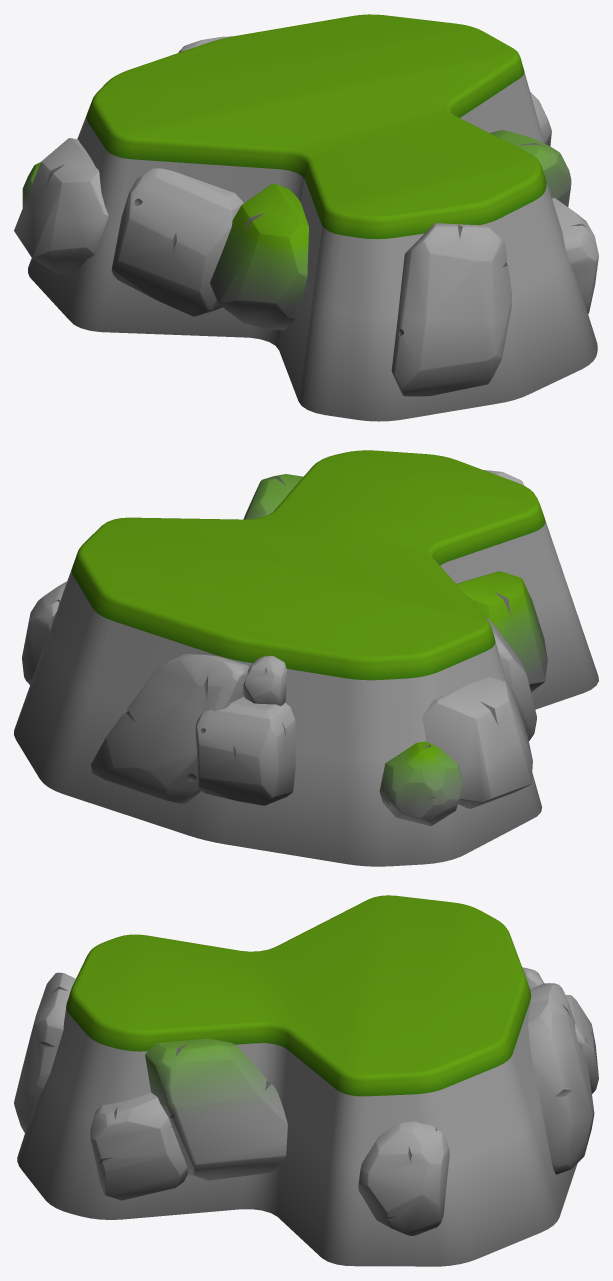
The model's file is RockMountain05.fbx.
3 renders of one model, top to bottom at view 1: azimuth 30°, elevation 25°; view 2: azimuth 150°, elevation 25°; view 3: azimuth 270°, elevation 25°, orthographic. The views are drawn at different scales.
Parts seen in each view (by area): view 1: LOD0; view 2: LOD0; view 3: LOD0.
Boxes of the visible parts, x1=… form: LOD0: x1=14, y1=14, x2=598, y2=421; LOD0: x1=14, y1=450, x2=598, y2=866; LOD0: x1=14, y1=895, x2=598, y2=1266.
Size of what is drawn, in the model's own units: 1107 by 1168 by 375.
